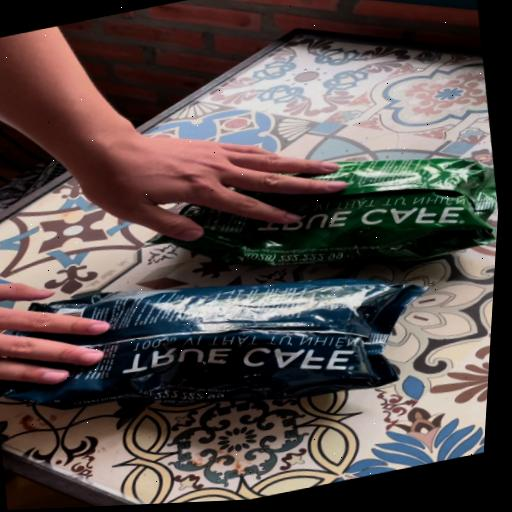cafe_hat: (0, 278, 424, 408)
cafe_xay: (152, 157, 497, 265)
